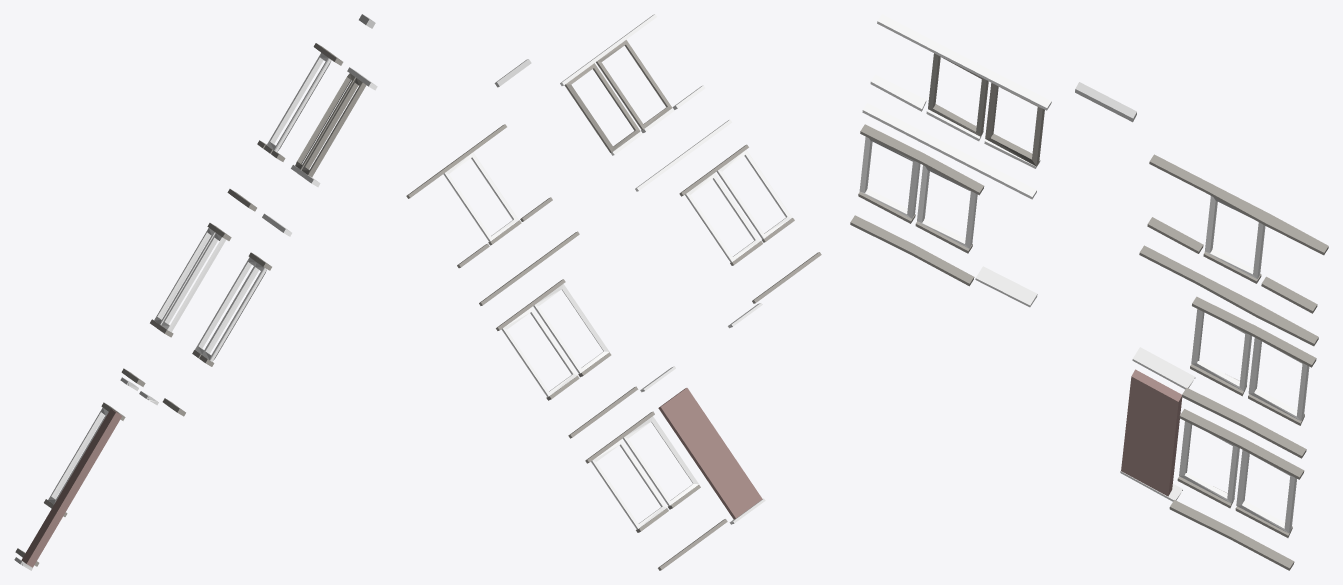
3 renders of one model, left to right at view 1: azimuth 30°, elevation 25°; view 2: azimuth 150°, elevation 25°; view 3: azimuth 270°, elevation 25°, orthographic. The views are drawn at different scales.
Visible parts, largest first — view 1: mesh; view 2: mesh; view 3: mesh.
Boxes of the visible parts, <box> form: mesh: <box>14,14,377,570</box>; mesh: <box>406,14,821,570</box>; mesh: <box>850,14,1328,570</box>.
Bounding box in the file's own units: 6.39 × 8.81 × 5.8.
